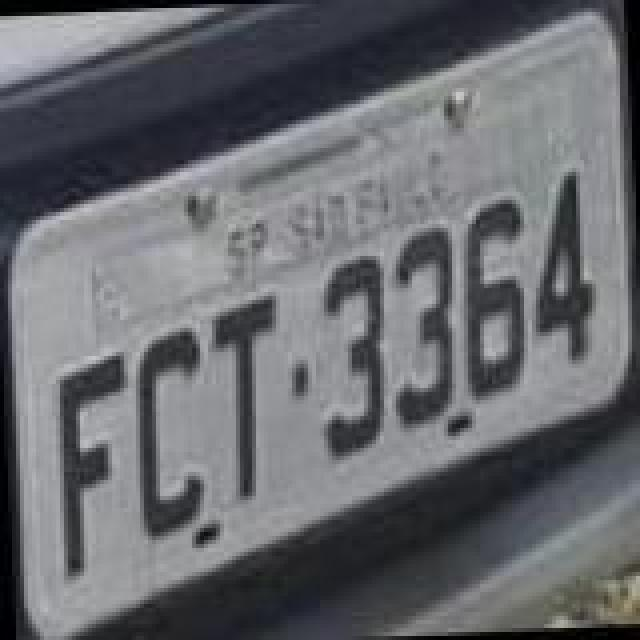3: (310, 250, 394, 462), (384, 224, 464, 432)
4: (522, 170, 598, 366)
6: (456, 192, 536, 400)
C: (126, 324, 210, 540)
F: (52, 348, 140, 580)
T: (210, 292, 286, 500)
